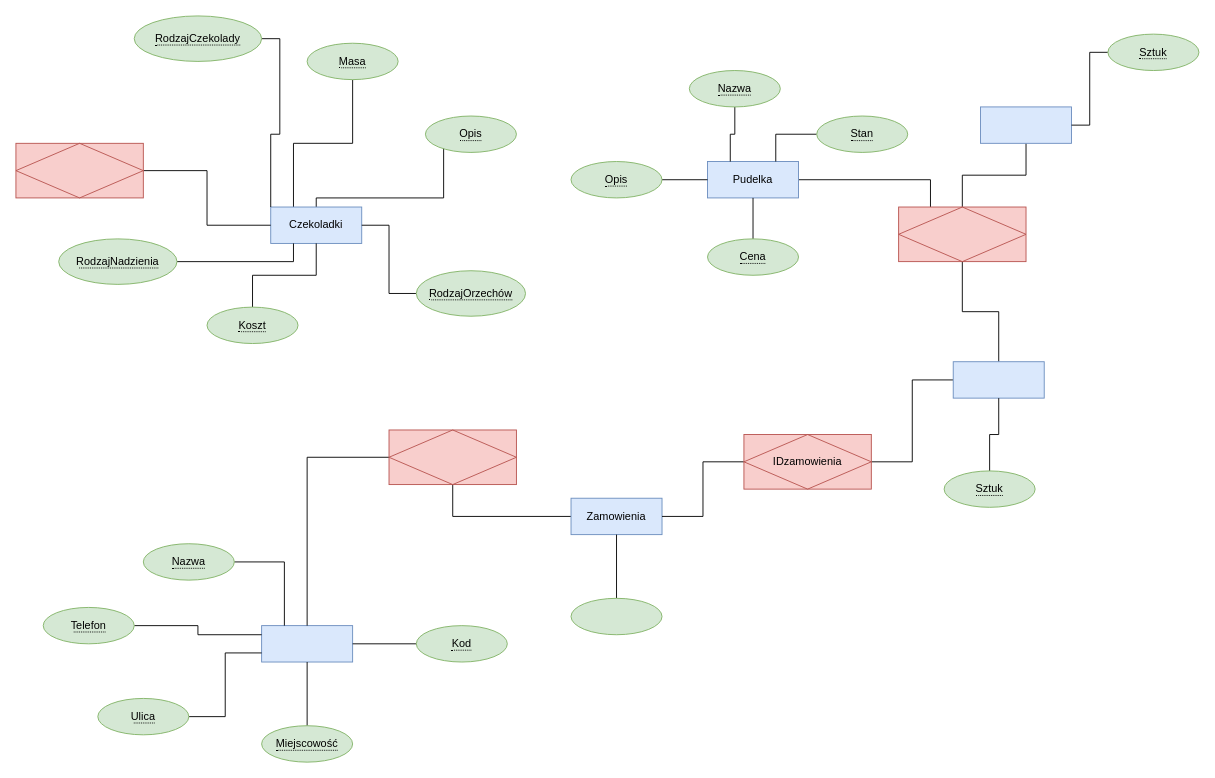
This 1215x778 diagram has some shape labels left out. The shapes that lost their labels are listed below. From the top down, each one's centre as x and y in pixels, then its label:
At point (1026, 124): "Zawartosc".
At point (79, 170): "IDczekoladki".
At point (962, 234): "IDpudelka".
At point (998, 379): "Artykuly".
At point (452, 457): "IDklienta".
At point (616, 616): "DataRealizacji".
At point (307, 643): "Klienci".
